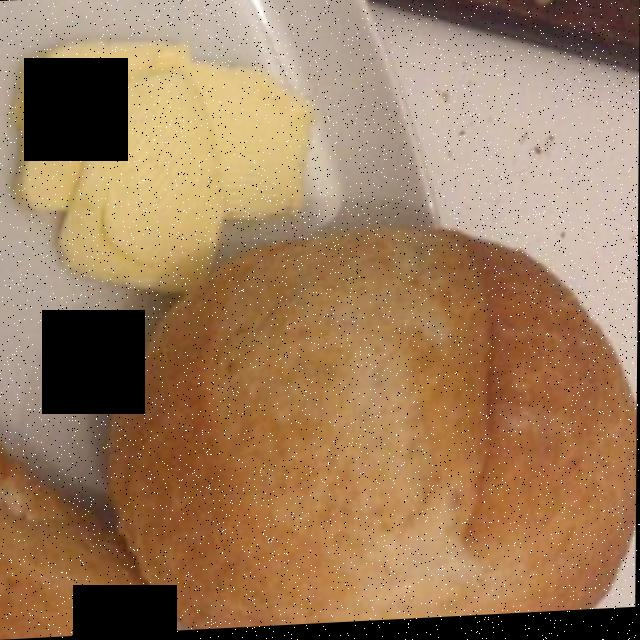bread-white: (11, 41, 629, 625)
butter: (20, 35, 312, 288)
